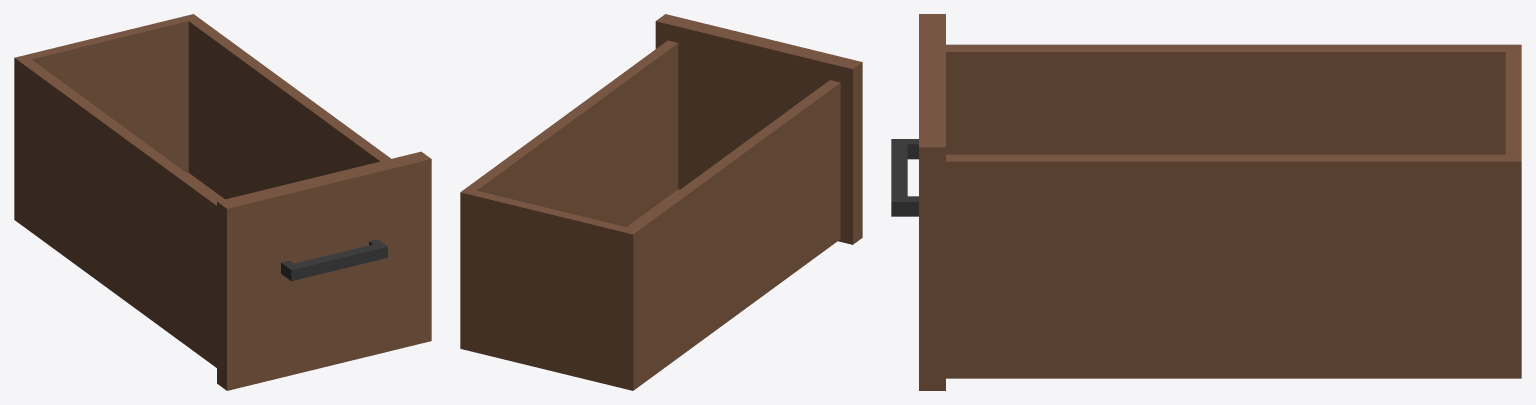
File: Door1_C2_07.fbx
3 views of the same model, side by side, from view 1: azimuth 30°, elevation 25°; view 2: azimuth 150°, elevation 25°; view 3: azimuth 270°, elevation 25° (orthographic). The views are drawn at different scales.
Visible parts, largest first — view 1: Door1_C2_07; view 2: Door1_C2_07; view 3: Door1_C2_07.
Part boxes in pixels (left/top/right/bottom): Door1_C2_07: left=14, top=14, right=431, bottom=390; Door1_C2_07: left=460, top=14, right=862, bottom=390; Door1_C2_07: left=891, top=14, right=1521, bottom=390.
Size of the model in its own units: 29 by 24.68 by 57.89.
